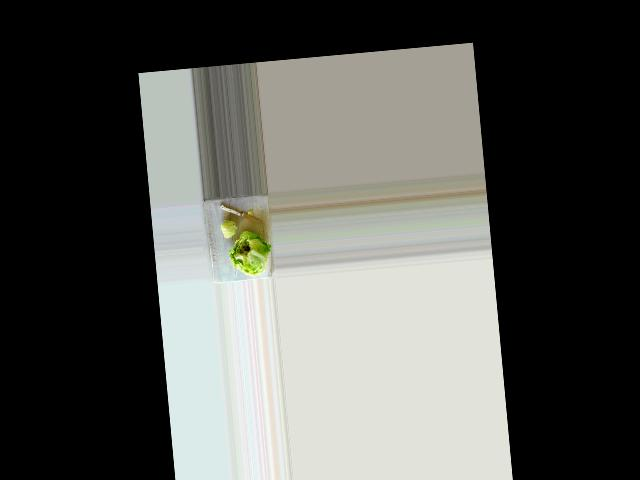lettuce: (228, 233, 271, 280)
